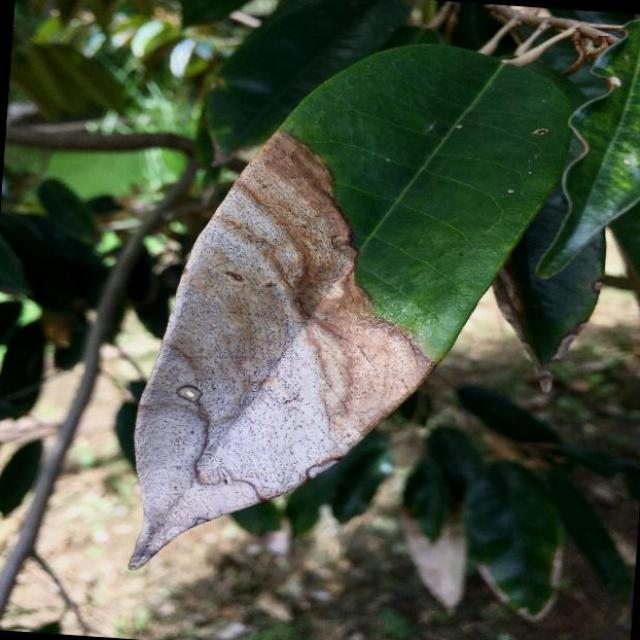Leaf Blight: (114, 17, 583, 604)
